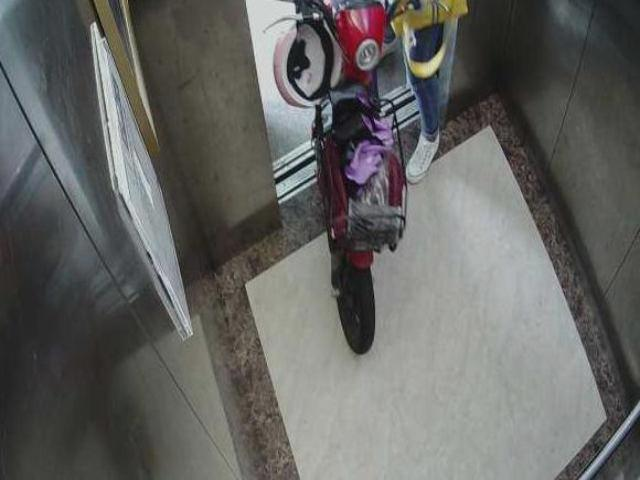emotor: (286, 6, 436, 370)
